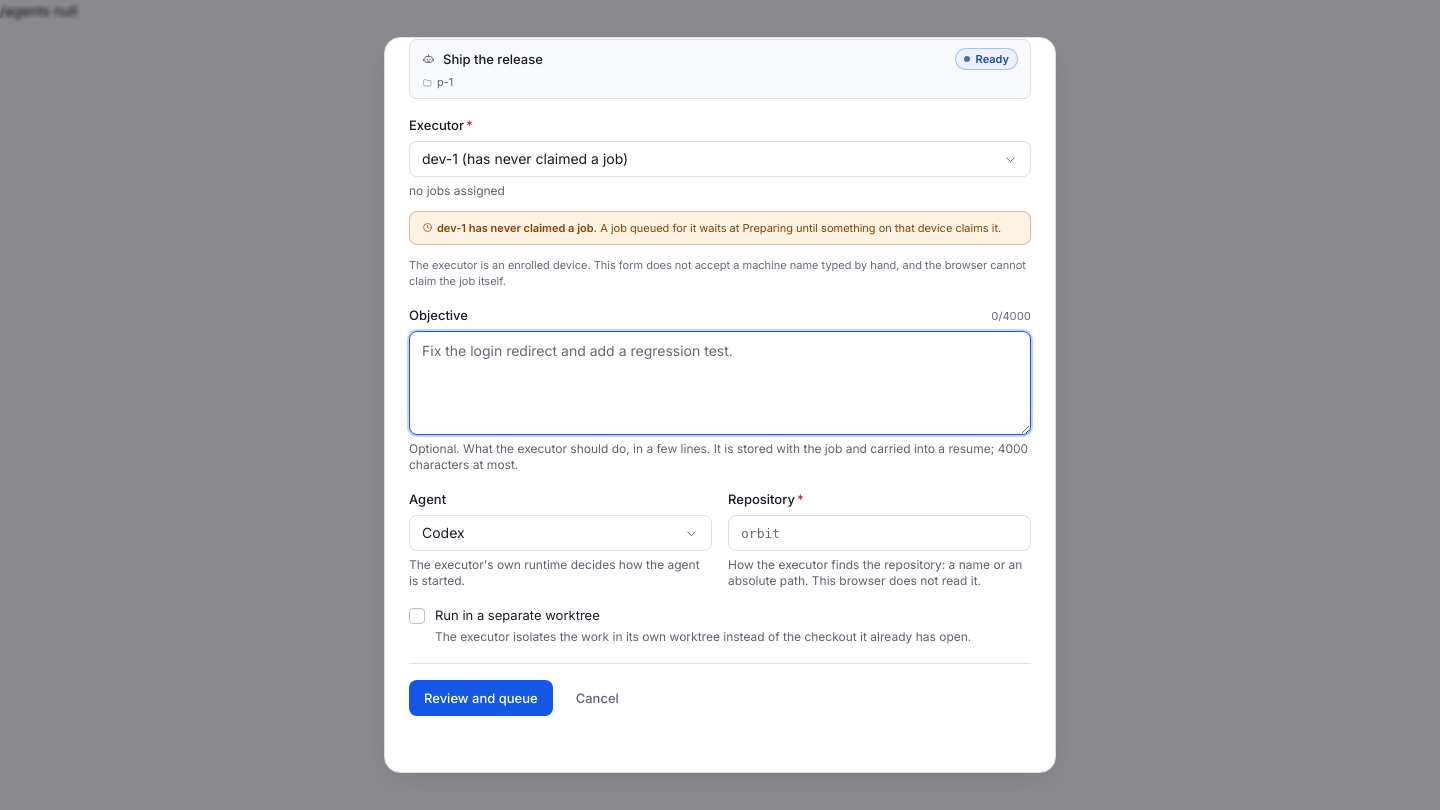
Scenario: launch agent job dialog › requires a repository reference and ties the error to the input
(page scrolled)
Click the button "Review and queue": (481, 698) [409,680,553,716]
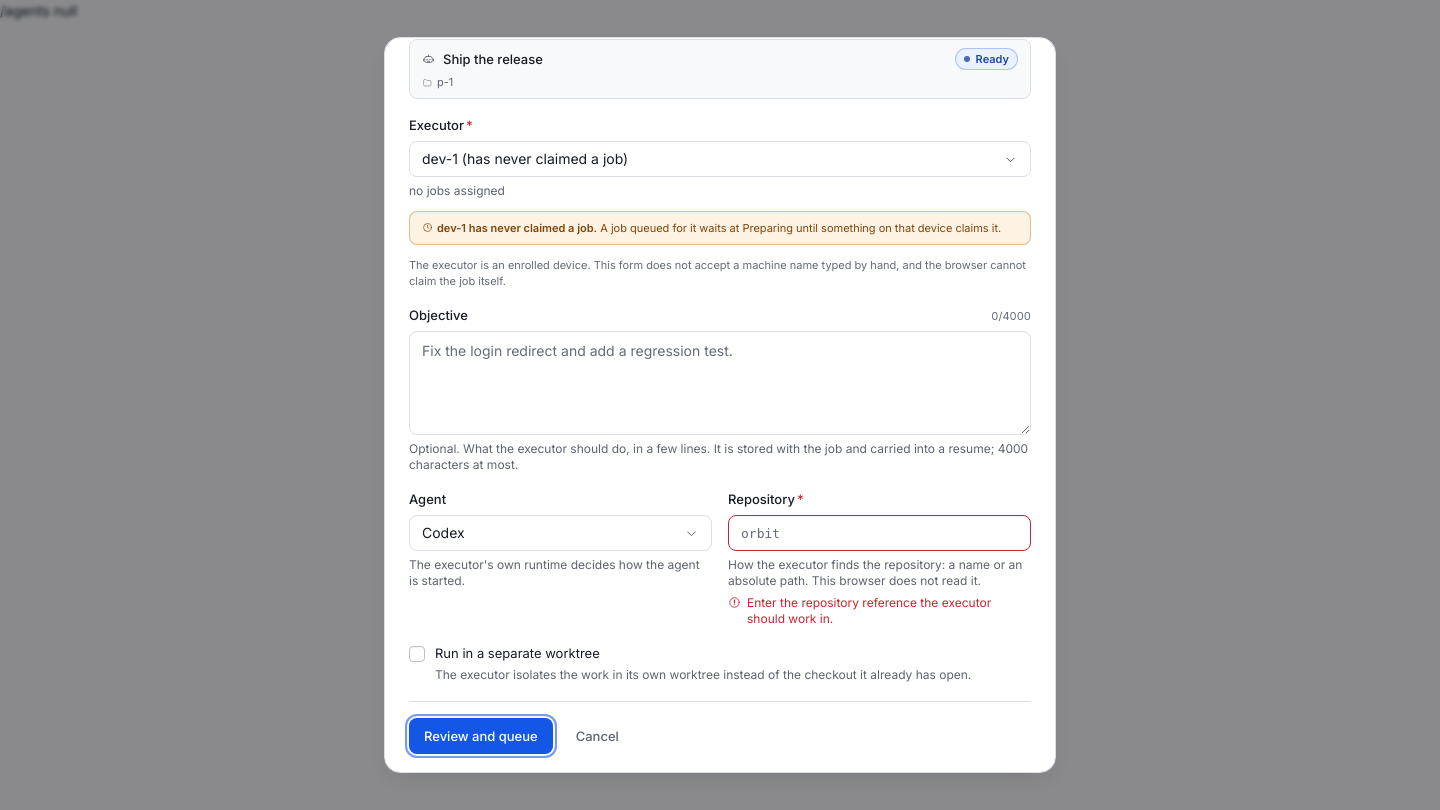
Check: the text "Enter the repository reference the executor should work in." is shown, box [747,595,1031,627]
